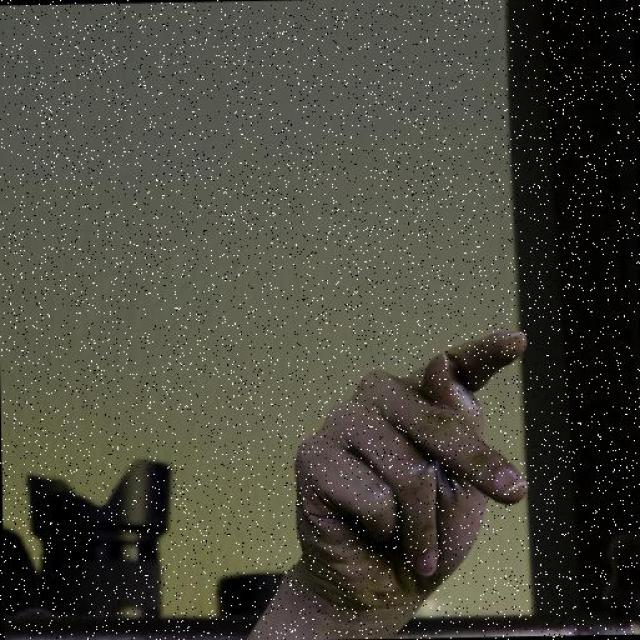P: (284, 326, 536, 624)
